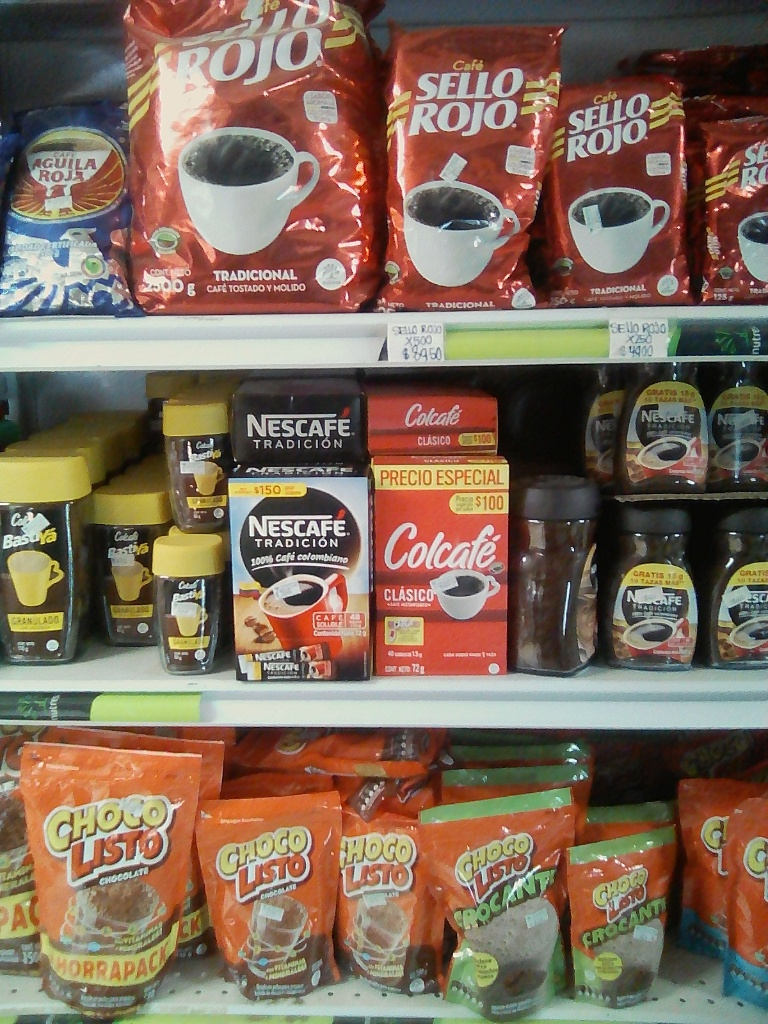COL0170102DYP10000: (560, 837, 679, 1011)
COL0170102DYP25000: (407, 789, 583, 1019)
COL0170103DYP20000: (194, 797, 340, 1002)
COL0170103DYP40000: (18, 738, 225, 1017)
